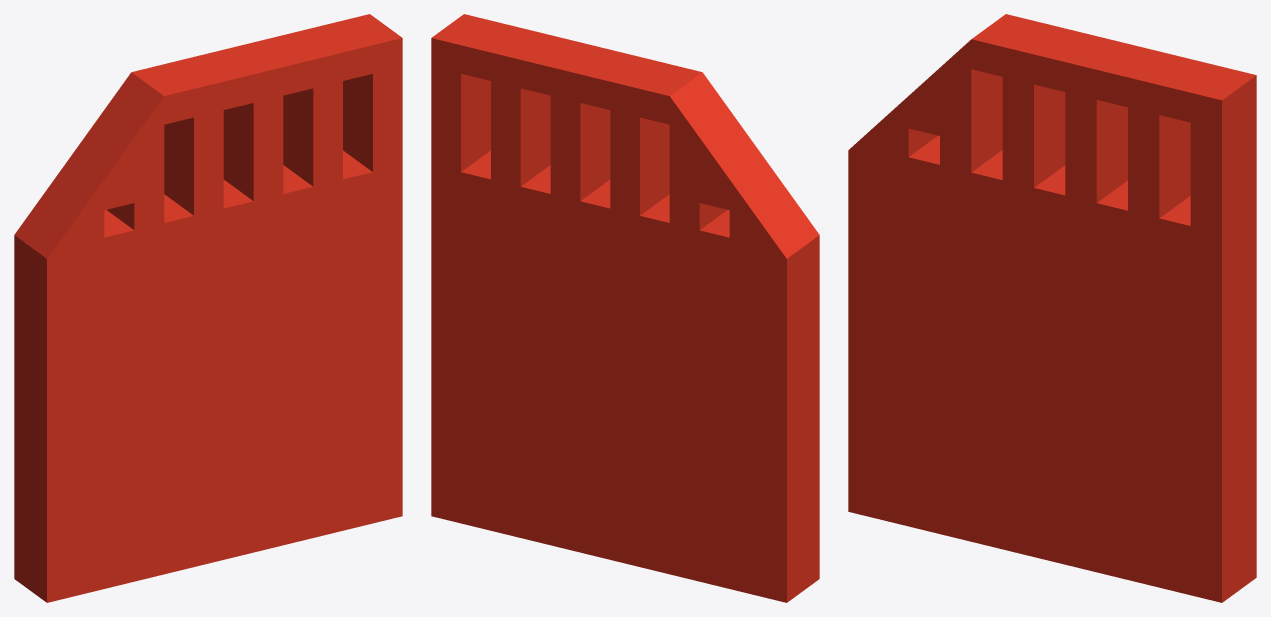
File: Icon_SimCard.fbx
3 views of the same model, side by side, from view 1: azimuth 30°, elevation 25°; view 2: azimuth 150°, elevation 25°; view 3: azimuth 330°, elevation 25° (orthographic). The views are drawn at different scales.
Visible parts, largest first — view 1: Icon_SimCard; view 2: Icon_SimCard; view 3: Icon_SimCard.
Boxes of the visible parts, x1,y1,x2,y2 form: Icon_SimCard: (14, 14, 402, 602); Icon_SimCard: (431, 14, 819, 602); Icon_SimCard: (848, 14, 1256, 602).
Size of the model in its own units: 51.76 by 66.51 by 8.27.
